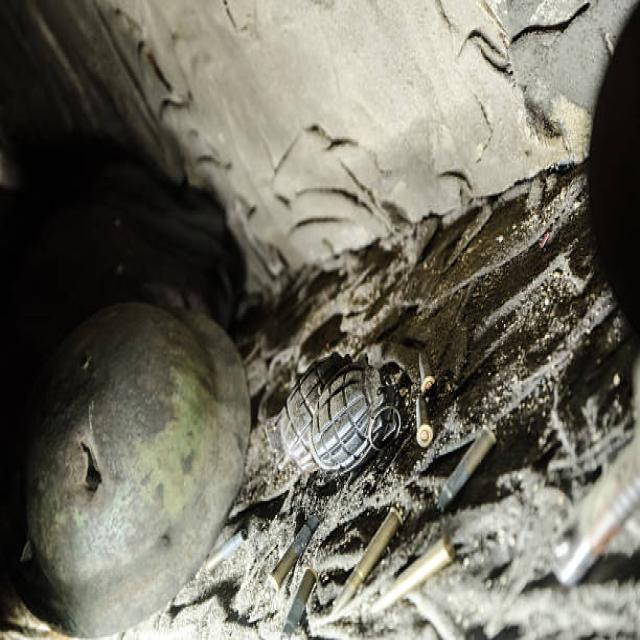grenade: (310, 372, 403, 476)
